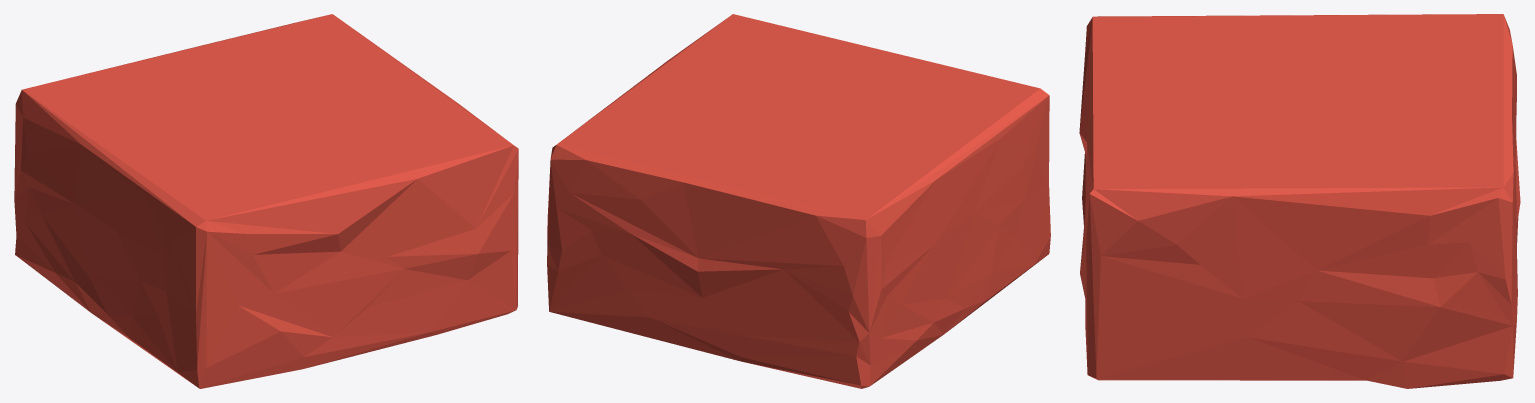
The model's file is SM_Greenscreen_Cube_Half.fbx.
3 views of the same model, side by side, from view 1: azimuth 30°, elevation 25°; view 2: azimuth 150°, elevation 25°; view 3: azimuth 270°, elevation 25° (orthographic). The views are drawn at different scales.
Parts seen in each view (by area): view 1: SM_Greenscreen_Cube_Half; view 2: SM_Greenscreen_Cube_Half; view 3: SM_Greenscreen_Cube_Half.
Boxes of the visible parts, left/top/right/bottom form: SM_Greenscreen_Cube_Half: left=14, top=14, right=518, bottom=388; SM_Greenscreen_Cube_Half: left=547, top=14, right=1050, bottom=388; SM_Greenscreen_Cube_Half: left=1079, top=14, right=1520, bottom=388.
Bounding box in the file's own units: 103 × 102 × 50.71.
